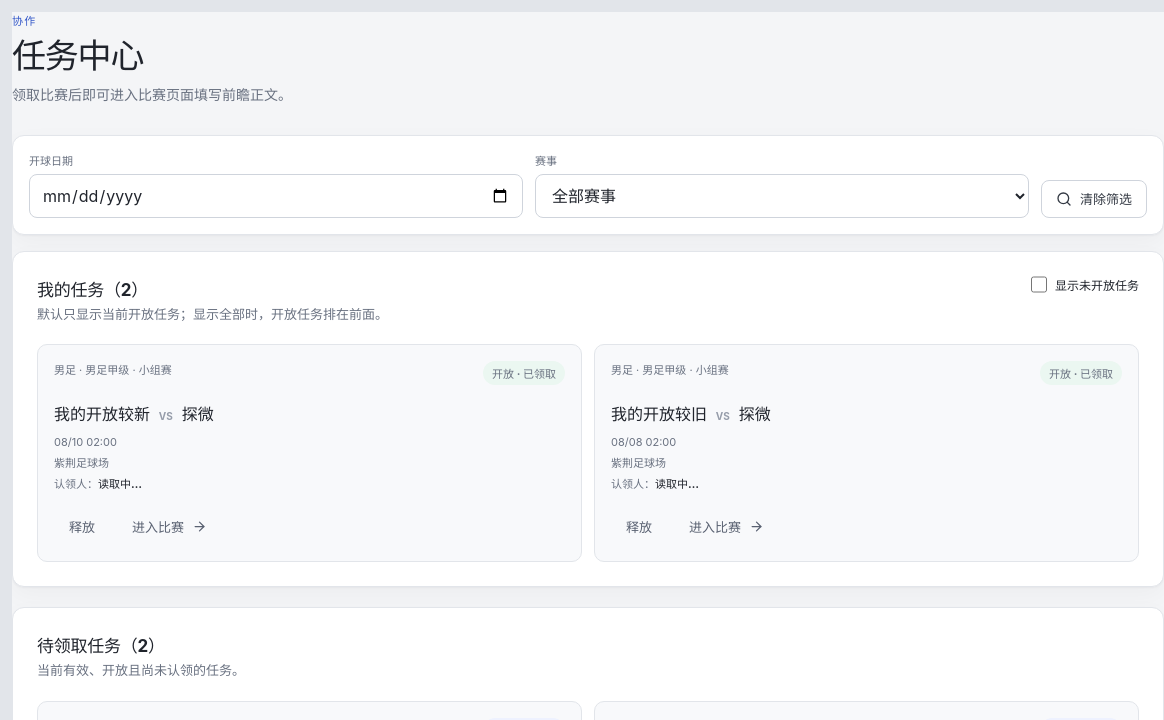
it: stage 5 task center › sorts every section and hides unavailable owned tasks by default
The width and height of the screenshot is (1164, 720).
Expected: the text "未开放较新" is not shown
Click the checkbox labelled "显示未开放任务" at (1039, 284), box [1031, 276, 1047, 292]
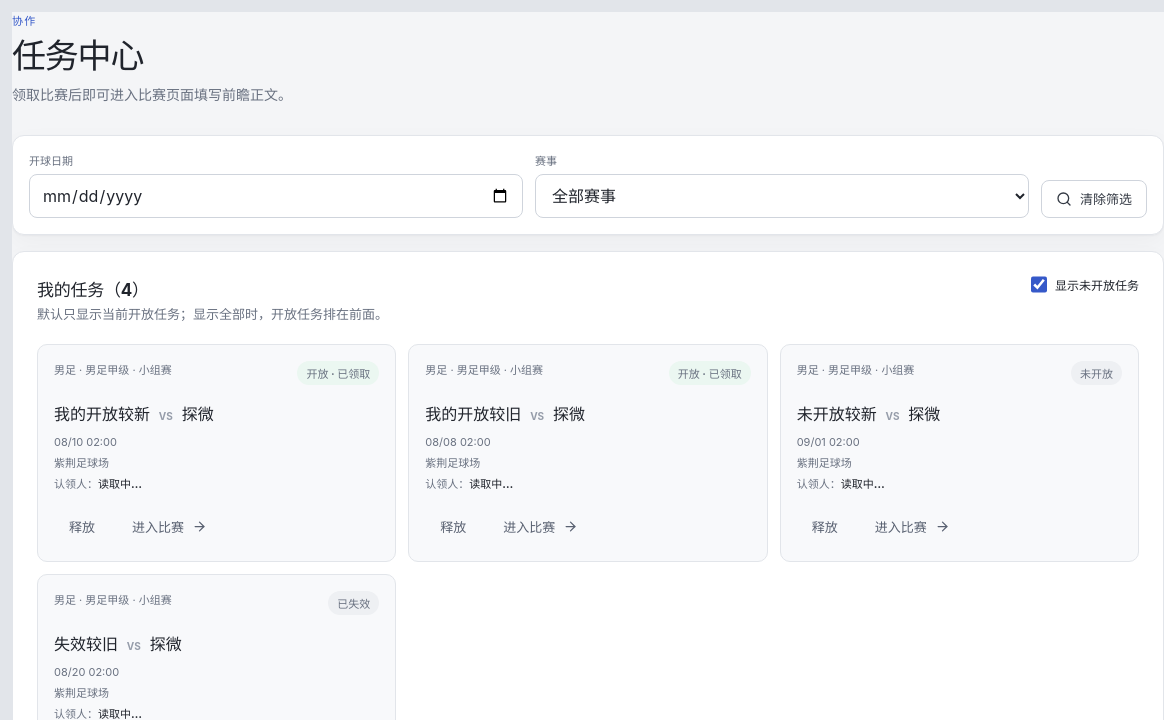
Expected: the heading "我的任务（4）" is shown, [37, 280, 149, 300]
